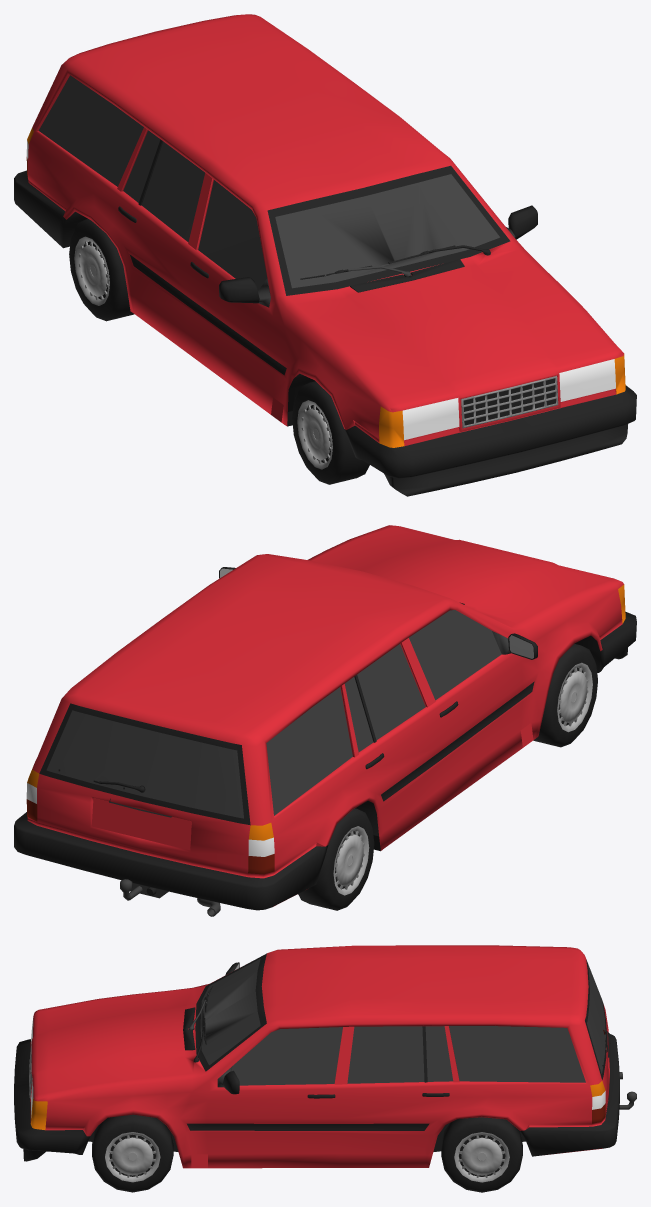
3 renders of one model, top to bottom at view 1: azimuth 30°, elevation 25°; view 2: azimuth 150°, elevation 25°; view 3: azimuth 270°, elevation 25°, orthographic. The views are drawn at different scales.
Visible parts, largest first — view 1: 3_palette_0; view 2: 3_palette_0; view 3: 3_palette_0.
Boxes of the visible parts, x1,y1,x2,y2 form: 3_palette_0: [14, 14, 636, 496]; 3_palette_0: [14, 525, 636, 916]; 3_palette_0: [14, 945, 636, 1192].
Size of the model in its own units: 2.13 by 1.36 by 4.64.
1 material, 1 textured.
